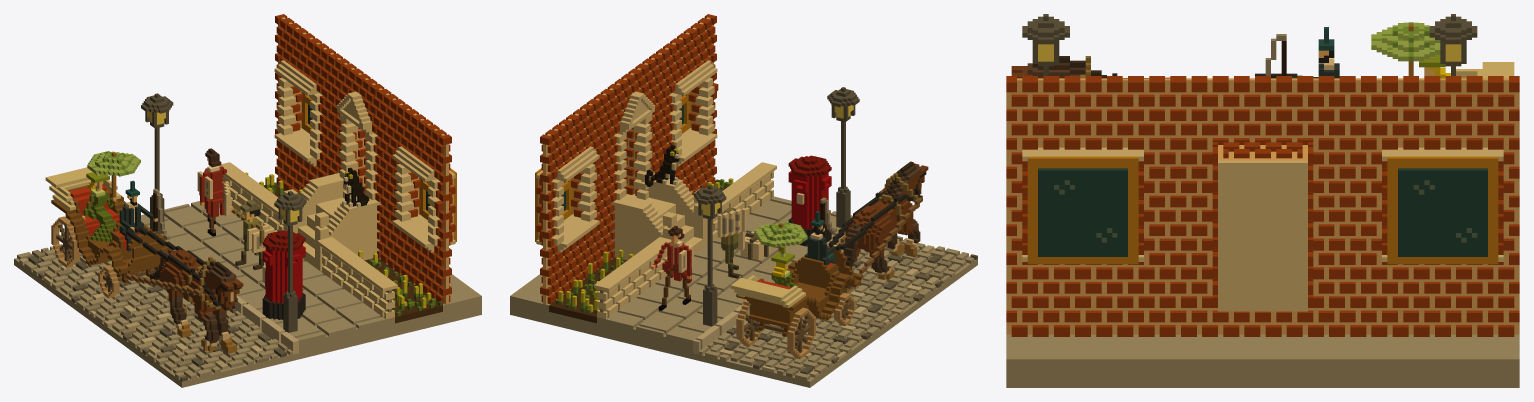
The model's file is #Ulica.obj.
The picture shows the model from 3 angles, left to right: view 1: azimuth 30°, elevation 25°; view 2: azimuth 150°, elevation 25°; view 3: azimuth 270°, elevation 25°; orthographic projection. The views are drawn at different scales.
Size of the model in its own units: 100 by 59 by 97.
Materials: 1 (1 with a texture image).
